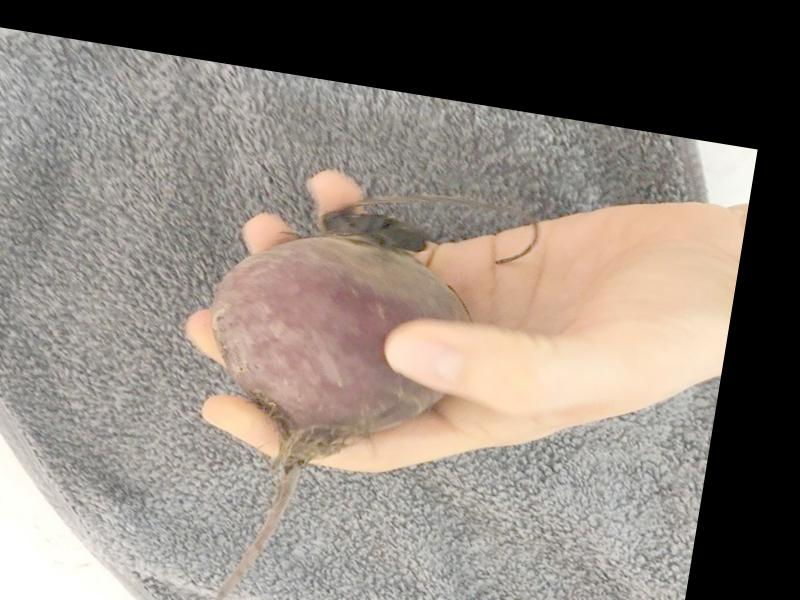Beet: (163, 192, 486, 600)
